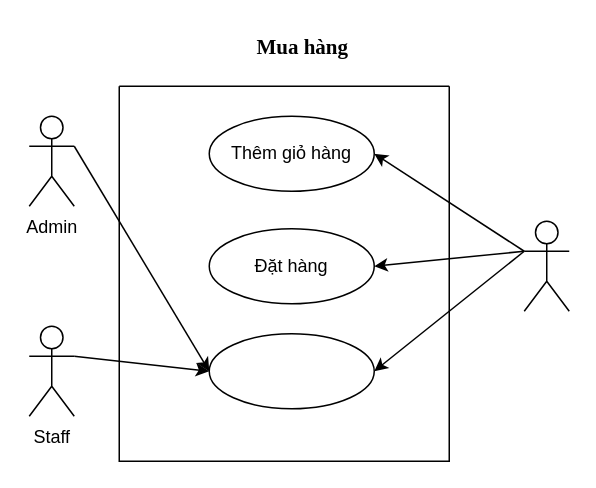
This 596x488 diagram has some shape labels left out. The centre of each missing label's shape, as x and y in pixels:
"Client" belongs at point 546,265.
"Xem sản phẩm" belongs at point 291,370.
